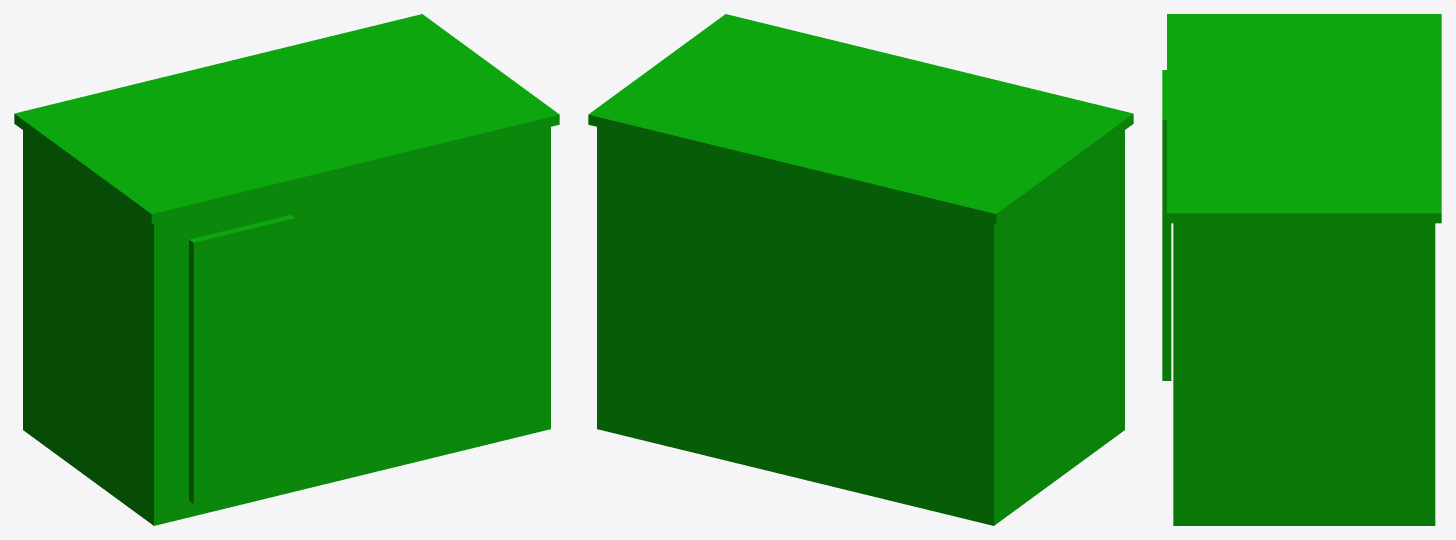
3 renders of one model, left to right at view 1: azimuth 30°, elevation 25°; view 2: azimuth 150°, elevation 25°; view 3: azimuth 270°, elevation 25°, orthographic.
Visible parts, largest first — view 1: BOX 1 of SUBEQUIPMENT /27-XJ51/PRIM, BOX 2 of SUBEQUIPMENT /27-XJ51/PRIM, BOX 3 of SUBEQUIPMENT /27-XJ51/PRIM; view 2: BOX 1 of SUBEQUIPMENT /27-XJ51/PRIM, BOX 2 of SUBEQUIPMENT /27-XJ51/PRIM; view 3: BOX 1 of SUBEQUIPMENT /27-XJ51/PRIM, BOX 2 of SUBEQUIPMENT /27-XJ51/PRIM, BOX 3 of SUBEQUIPMENT /27-XJ51/PRIM.
Boxes of the visible parts, box(x1,y1,x2,y2) form: BOX 1 of SUBEQUIPMENT /27-XJ51/PRIM: box(23, 127, 550, 525); BOX 2 of SUBEQUIPMENT /27-XJ51/PRIM: box(14, 14, 559, 223); BOX 3 of SUBEQUIPMENT /27-XJ51/PRIM: box(189, 215, 295, 503); BOX 1 of SUBEQUIPMENT /27-XJ51/PRIM: box(597, 127, 1124, 525); BOX 2 of SUBEQUIPMENT /27-XJ51/PRIM: box(588, 14, 1133, 223); BOX 1 of SUBEQUIPMENT /27-XJ51/PRIM: box(1173, 223, 1435, 525); BOX 2 of SUBEQUIPMENT /27-XJ51/PRIM: box(1167, 14, 1441, 223); BOX 3 of SUBEQUIPMENT /27-XJ51/PRIM: box(1162, 70, 1171, 380).
Bounding box in the file's own units: 3.6 × 2.71 × 2.14.
